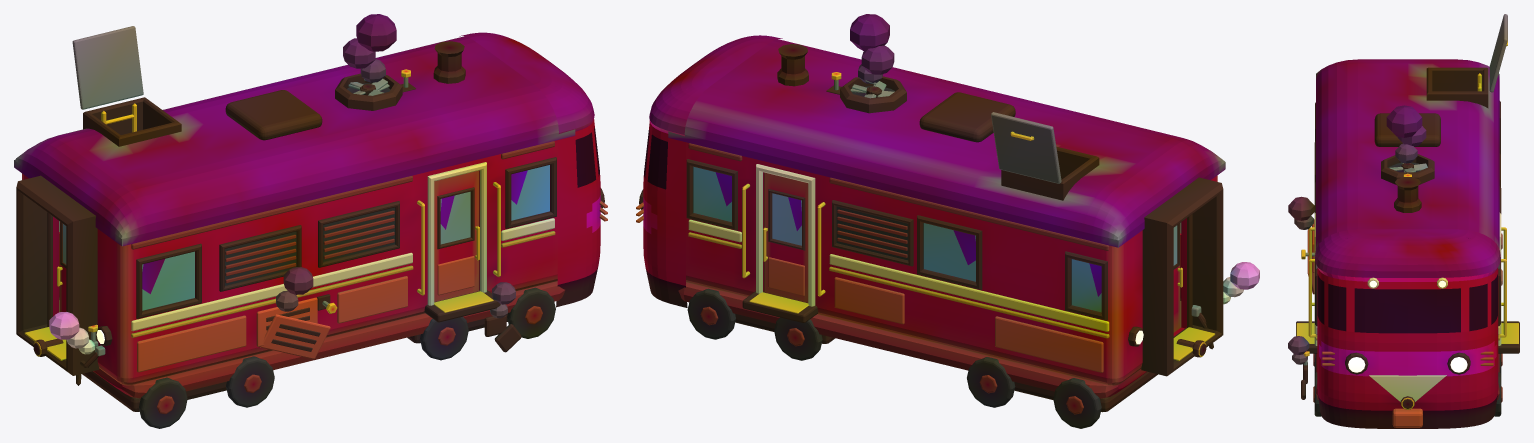
Rendered from DieselLocomotive_Blockout.glb.
3 renders of one model, left to right at view 1: azimuth 30°, elevation 25°; view 2: azimuth 150°, elevation 25°; view 3: azimuth 270°, elevation 25°, orthographic. The views are drawn at different scales.
Parts seen in each view (by area): view 1: Roof, Body, Underframe, Livery, Ends, Nose, Grilles, Windows, SideDoorLeaf, RoofHatch_Engine, Broken_Bits__EngineHatch, Broken_Bits__Fan (+6 smaller); view 2: Roof, Body, Underframe, Livery, Ends, Nose, Windows, SideDoorLeaf_Far, Grilles, RoofHatch_Engine, Broken_Bits__Fan, SideDoorSill_Far (+3 smaller); view 3: Nose, Roof, Broken_Bits__Fan, SideDoorSill_Far, SideDoorSill, Broken_Bits__EngineHatch, RoofHatch_Engine, Underframe, Windows, Broken_Bits__AxleBox, SideDoorFrame_Far.
Part boxes in pixels (left/top/right/bottom): Roof: left=14, top=33, right=575, bottom=246; Body: left=22, top=140, right=557, bottom=385; Underframe: left=82, top=281, right=565, bottom=428; Livery: left=131, top=141, right=555, bottom=372; Ends: left=16, top=175, right=112, bottom=375; Nose: left=459, top=32, right=607, bottom=307; Grilles: left=219, top=201, right=399, bottom=291; Windows: left=59, top=157, right=556, bottom=318; SideDoorLeaf: left=434, top=170, right=479, bottom=301; RoofHatch_Engine: left=72, top=26, right=143, bottom=109; Broken_Bits__EngineHatch: left=260, top=267, right=330, bottom=359; Broken_Bits__Fan: left=343, top=14, right=396, bottom=95; Roof: left=668, top=37, right=1225, bottom=247; Body: left=686, top=142, right=1217, bottom=385; Underframe: left=678, top=282, right=1157, bottom=428; Livery: left=688, top=143, right=1109, bottom=372; Ends: left=1128, top=177, right=1223, bottom=376; Nose: left=636, top=35, right=782, bottom=307; Windows: left=686, top=159, right=1181, bottom=320; SideDoorLeaf_Far: left=763, top=172, right=808, bottom=302; Grilles: left=832, top=200, right=913, bottom=266; RoofHatch_Engine: left=991, top=112, right=1061, bottom=183; Broken_Bits__Fan: left=850, top=14, right=894, bottom=97; SideDoorSill_Far: left=742, top=183, right=825, bottom=322; Nose: left=1315, top=229, right=1500, bottom=428; Roof: left=1316, top=59, right=1499, bottom=268; Broken_Bits__Fan: left=1386, top=105, right=1426, bottom=172; SideDoorSill_Far: left=1498, top=227, right=1519, bottom=353; SideDoorSill: left=1296, top=227, right=1317, bottom=353; Broken_Bits__EngineHatch: left=1288, top=196, right=1314, bottom=294; RoofHatch_Engine: left=1489, top=14, right=1507, bottom=92; Underframe: left=1313, top=233, right=1502, bottom=416; Windows: left=1315, top=101, right=1500, bottom=326; Broken_Bits__AxleBox: left=1288, top=336, right=1309, bottom=399; SideDoorFrame_Far: left=1498, top=212, right=1501, bottom=345.
Bounding box in the file's own units: 7.97 × 4.21 × 3.35.
